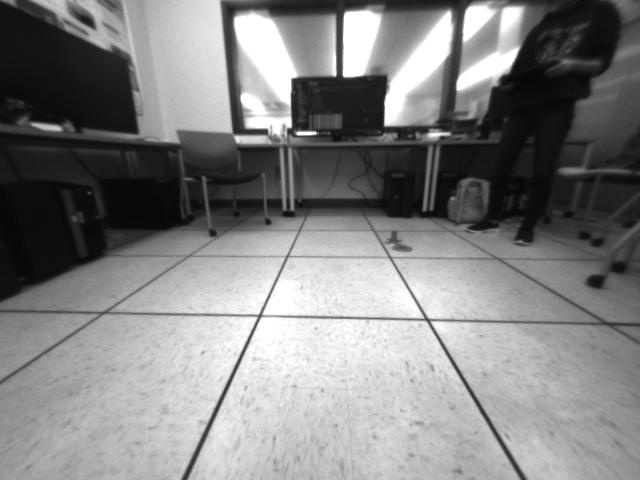X: (384, 229, 403, 245)
